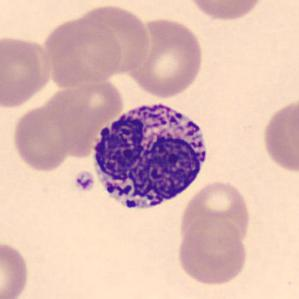Basophil: (87, 95, 214, 219)
Platelets: (72, 171, 96, 194)
RBC: (125, 16, 206, 100), (40, 14, 123, 88), (75, 2, 152, 77), (175, 218, 250, 288), (177, 179, 252, 246), (10, 103, 73, 173), (0, 33, 54, 109), (260, 96, 298, 175), (182, 0, 268, 23), (0, 239, 32, 299), (284, 95, 299, 172)
